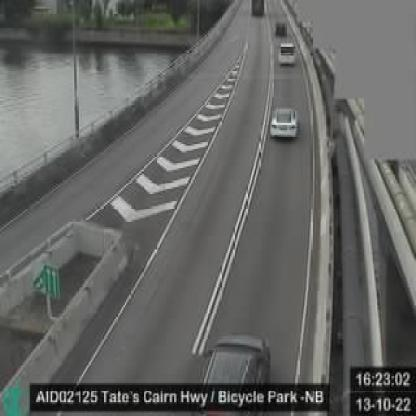Car: (196, 332, 277, 403), (268, 106, 299, 143), (278, 42, 296, 68), (274, 19, 286, 36)
